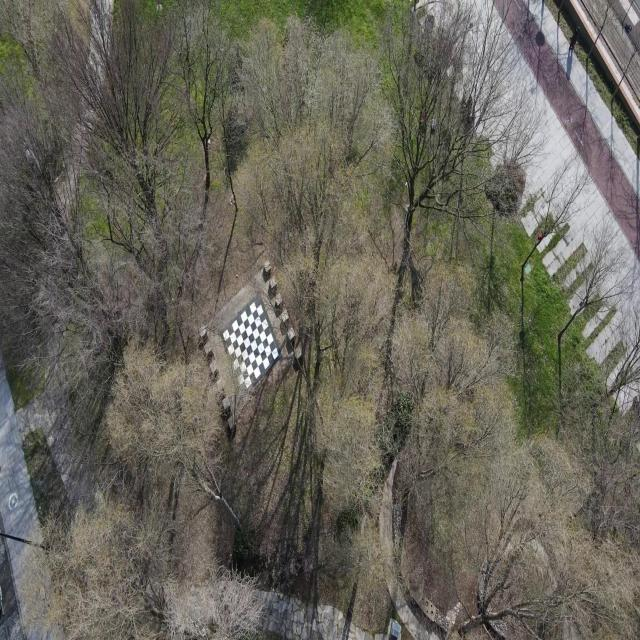p3rson: (569, 26, 580, 50)
